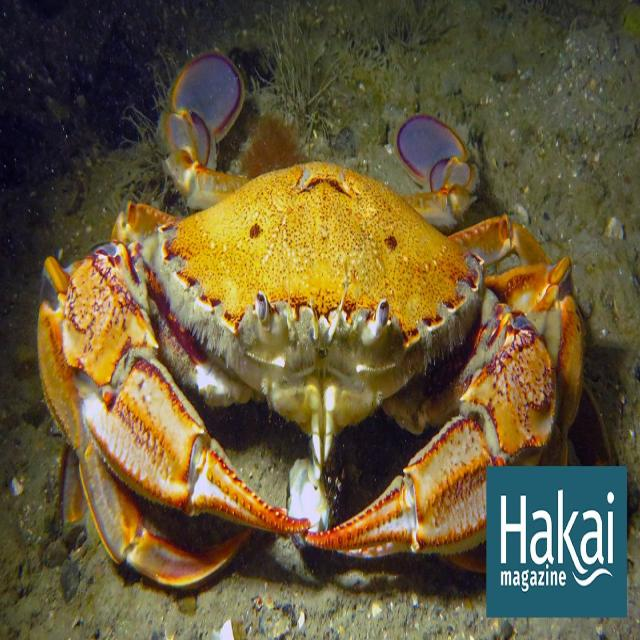crab: (136, 105, 418, 482)
